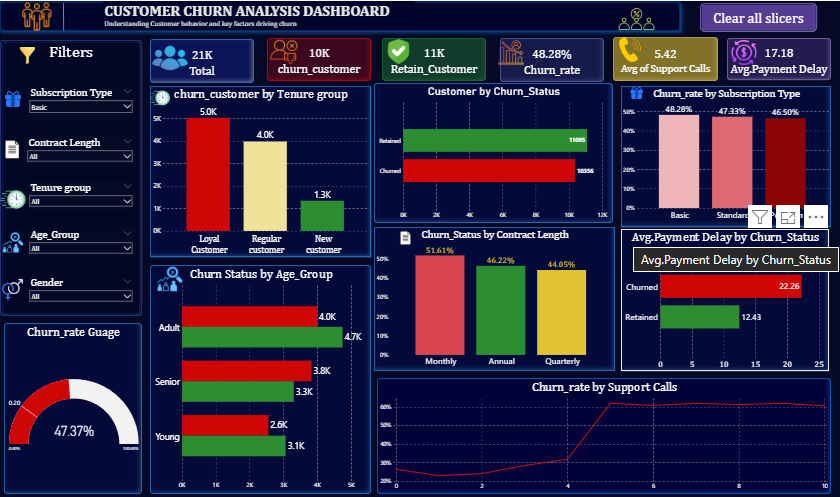

This screenshot's page, from the dashboard's own definition file:
{"tool":"powerbi","page":{"name":"Page 2","canvas":[3200,1900],"ordinal":1},"visuals":[{"type":"image","box":[1892.4,140.6,98.8,110.2],"z":0},{"type":"shape","box":[0,3.8,2584,110.2],"z":1000},{"type":"image","box":[16.8,0,249.6,117.6],"z":2000},{"type":"shape","box":[114,6,255,105],"z":3000},{"type":"shape","box":[0,148.2,539.6,1048.8],"z":4000},{"type":"textbox","box":[393,0,1185,111],"z":5000},{"type":"slicer","fields":{"Values":["customer_churn_dataset-testing-master.Subscription Type"]},"box":[102.6,319.2,410.4,144.4],"z":6000},{"type":"slicer","fields":{"Values":["customer_churn_dataset-testing-master.Tenure group "]},"box":[102.6,680.2,410.4,121.6],"z":7000},{"type":"slicer","fields":{"Values":["customer_churn_dataset-testing-master.Contract Length"]},"box":[95,509.2,418,121.6],"z":8000},{"type":"slicer","fields":{"Values":["customer_churn_dataset-testing-master.Age_Group"]},"box":[102.6,858.8,410.4,114],"z":9000},{"type":"barChart","title":"Customer by Churn_Status","fields":{"Category":["customer_churn_dataset-testing-master.Churn_Status"],"Y":["CountNonNull(customer_churn_dataset-testing-master.CustomerID)"]},"box":[1421.2,311.6,908.2,532],"z":10000},{"type":"clusteredColumnChart","title":"Churn_Status by Contract Length ","fields":{"Category":["customer_churn_dataset-testing-master.Contract Length"],"Y":["customer_churn_dataset-testing-master.Churn_rate"]},"box":[1421.2,858.8,915.8,547.2],"z":11000},{"type":"image","box":[2283.8,0,269.8,136.8],"z":12000},{"type":"image","box":[49.4,174.8,110.2,64.6],"z":13000},{"type":"columnChart","fields":{"Category":["customer_churn_dataset-testing-master.Tenure group "],"Y":["customer_churn_dataset-testing-master.churn_customer"]},"box":[570,323,839.8,649.8],"z":14000},{"type":"image","box":[15.2,323,68.4,98.8],"z":15000},{"type":"image","box":[0,528.2,91.2,72.2],"z":16000},{"type":"slicer","fields":{"Values":["customer_churn_dataset-testing-master.Gender"]},"box":[102.6,1041.2,410.4,125.4],"z":17000},{"type":"image","box":[0,1056.4,95,79.8],"z":18000},{"type":"image","box":[0,874,98.8,87.4],"z":19000},{"type":"image","box":[0,706.8,98.8,95],"z":20000},{"type":"image","box":[1497.2,874,87.4,53.2],"z":21000},{"type":"image","box":[570,315.4,76,106.4],"z":22000},{"type":"columnChart","fields":{"Y":["customer_churn_dataset-testing-master.Churn_rate"],"Category":["customer_churn_dataset-testing-master.Subscription Type"]},"box":[2359.8,323,798,535.8],"z":23000},{"type":"image","box":[2363.6,323,110.2,53.2],"z":24000},{"type":"clusteredBarChart","title":"Churn Status by Age_Group","fields":{"Category":["customer_churn_dataset-testing-master.Age_Group"],"Series":["customer_churn_dataset-testing-master.Churn_Status"],"Y":["CountNonNull(customer_churn_dataset-testing-master.CustomerID)"]},"box":[570,1003.2,839.8,870.2],"z":25000},{"type":"image","box":[554.8,1003.2,182.4,106.4],"z":26000},{"type":"barChart","title":"Avg.Payment Delay by Churn_Status","fields":{"Category":["customer_churn_dataset-testing-master.Churn_Status"],"Y":["Avg(customer_churn_dataset-testing-master.Payment Delay)"]},"box":[2359.8,866.4,790.4,539.6],"z":27000},{"type":"gauge","title":"Churn_rate Guage","fields":{"Y":["customer_churn_dataset-testing-master.Churn_rate"],"TargetValue":["customer_churn_dataset-testing-master.Target"]},"box":[15.2,1223.6,524.4,649.8],"z":28000},{"type":"lineChart","fields":{"Y":["customer_churn_dataset-testing-master.Churn_rate"],"Category":["customer_churn_dataset-testing-master.Support Calls"]},"box":[1432.6,1432.6,1725.2,440.8],"z":29000},{"type":"card","fields":{"Values":["customer_churn_dataset-testing-master.Total"]},"box":[570,144.4,395.2,167.2],"z":30000},{"type":"card","fields":{"Values":["customer_churn_dataset-testing-master.churn_customer"]},"box":[1014.6,140.6,395,163.4],"z":31000},{"type":"card","fields":{"Values":["customer_churn_dataset-testing-master.retain"]},"box":[1451.6,140.6,395.2,163.4],"z":32000},{"type":"card","fields":{"Values":["customer_churn_dataset-testing-master.Churn_rate"]},"box":[1900,140.6,395,167.2],"z":33000},{"type":"image","box":[570,148.2,152,136.8],"z":34000},{"type":"image","box":[1014.6,140.6,129.2,106.4],"z":35000},{"type":"image","box":[1444,144.4,140.6,95],"z":36000},{"type":"card","fields":{"Values":["Avg(customer_churn_dataset-testing-master.Support Calls)"]},"box":[2329.4,136.8,399,167.2],"z":37000},{"type":"image","box":[2329.4,136.8,129.2,95],"z":38000},{"type":"card","fields":{"Values":["Avg(customer_churn_dataset-testing-master.Payment Delay)"]},"box":[2762.6,140.6,395.2,159.6],"z":39000},{"type":"image","box":[2762.6,148.2,129.2,95],"z":40000},{"type":"actionButton","box":[2660,7.6,444.6,110.2],"z":41000}]}

Visuals, with their boxes in screenshot pixels (x1, y1, x2, y2), scaled from the page's 3200x1900 canvas onto the 840x497 screenshot:
image: (x1=497, y1=37, x2=523, y2=66)
shape: (x1=0, y1=1, x2=678, y2=30)
image: (x1=4, y1=0, x2=70, y2=31)
shape: (x1=30, y1=2, x2=97, y2=29)
shape: (x1=0, y1=39, x2=142, y2=313)
textbox: (x1=103, y1=0, x2=414, y2=29)
slicer - customer_churn_dataset-testing-master.Subscription Type: (x1=27, y1=83, x2=135, y2=121)
slicer - customer_churn_dataset-testing-master.Tenure group : (x1=27, y1=178, x2=135, y2=210)
slicer - customer_churn_dataset-testing-master.Contract Length: (x1=25, y1=133, x2=135, y2=165)
slicer - customer_churn_dataset-testing-master.Age_Group: (x1=27, y1=225, x2=135, y2=254)
"Customer by Churn_Status" barChart: (x1=373, y1=82, x2=611, y2=221)
"Churn_Status by Contract Length " clusteredColumnChart: (x1=373, y1=225, x2=613, y2=368)
image: (x1=599, y1=0, x2=670, y2=36)
image: (x1=13, y1=46, x2=42, y2=63)
columnChart - customer_churn_dataset-testing-master.Tenure group  x customer_churn_dataset-testing-master.churn_customer: (x1=150, y1=84, x2=370, y2=254)
image: (x1=4, y1=84, x2=22, y2=110)
image: (x1=0, y1=138, x2=24, y2=157)
slicer - customer_churn_dataset-testing-master.Gender: (x1=27, y1=272, x2=135, y2=305)
image: (x1=0, y1=276, x2=25, y2=297)
image: (x1=0, y1=229, x2=26, y2=251)
image: (x1=0, y1=185, x2=26, y2=210)
image: (x1=393, y1=229, x2=416, y2=243)
image: (x1=150, y1=83, x2=170, y2=110)
columnChart - customer_churn_dataset-testing-master.Churn_rate x customer_churn_dataset-testing-master.Subscription Type: (x1=619, y1=84, x2=829, y2=225)
image: (x1=620, y1=84, x2=649, y2=98)
"Churn Status by Age_Group" clusteredBarChart: (x1=150, y1=262, x2=370, y2=490)
image: (x1=146, y1=262, x2=194, y2=290)
"Avg.Payment Delay by Churn_Status" barChart: (x1=619, y1=227, x2=827, y2=368)
"Churn_rate Guage" gauge: (x1=4, y1=320, x2=142, y2=490)
lineChart - customer_churn_dataset-testing-master.Churn_rate x customer_churn_dataset-testing-master.Support Calls: (x1=376, y1=375, x2=829, y2=490)
card - customer_churn_dataset-testing-master.Total: (x1=150, y1=38, x2=253, y2=82)
card - customer_churn_dataset-testing-master.churn_customer: (x1=266, y1=37, x2=370, y2=80)
card - customer_churn_dataset-testing-master.retain: (x1=381, y1=37, x2=485, y2=80)
card - customer_churn_dataset-testing-master.Churn_rate: (x1=499, y1=37, x2=602, y2=81)
image: (x1=150, y1=39, x2=190, y2=75)
image: (x1=266, y1=37, x2=300, y2=65)
image: (x1=379, y1=38, x2=416, y2=63)
card - Avg(customer_churn_dataset-testing-master.Support Calls): (x1=611, y1=36, x2=716, y2=80)
image: (x1=611, y1=36, x2=645, y2=61)
card - Avg(customer_churn_dataset-testing-master.Payment Delay): (x1=725, y1=37, x2=829, y2=79)
image: (x1=725, y1=39, x2=759, y2=64)
actionButton: (x1=698, y1=2, x2=815, y2=31)
